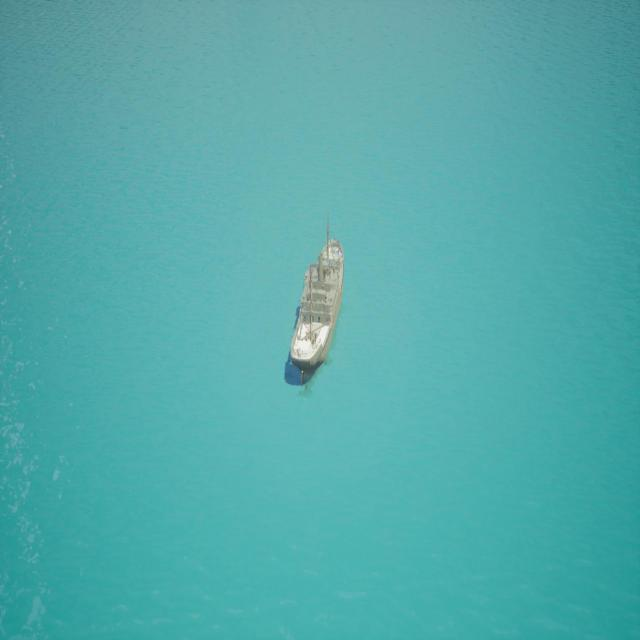fishing ship: (288, 216, 347, 392)
